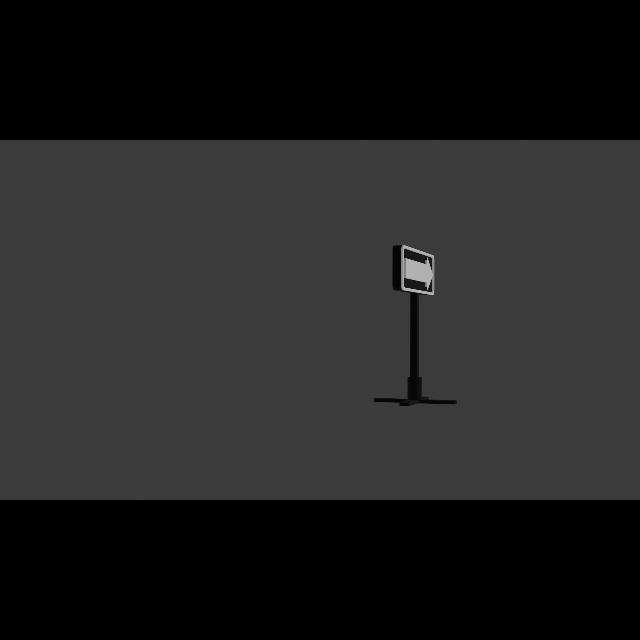sign_oneway_right: (394, 245, 437, 298)
